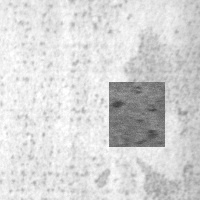pitted_surface: (1, 1, 199, 200)
rolled-in_scale: (109, 82, 165, 147)
